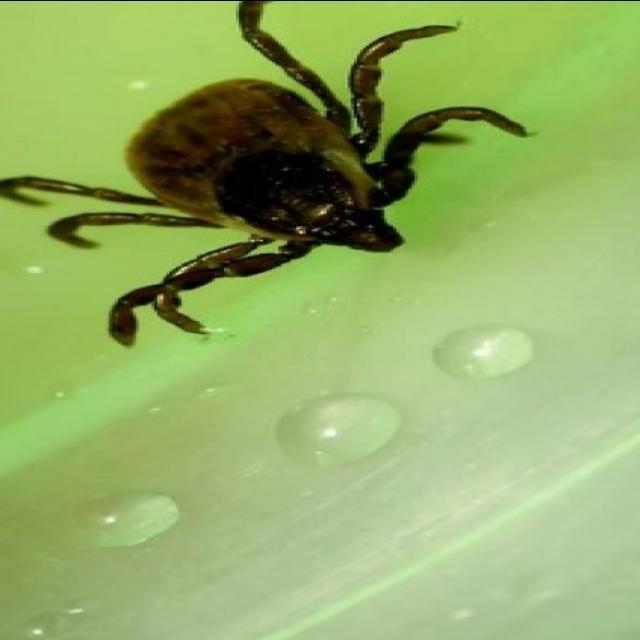Rhipicephalus Sanguineus-F: (0, 0, 532, 348)
